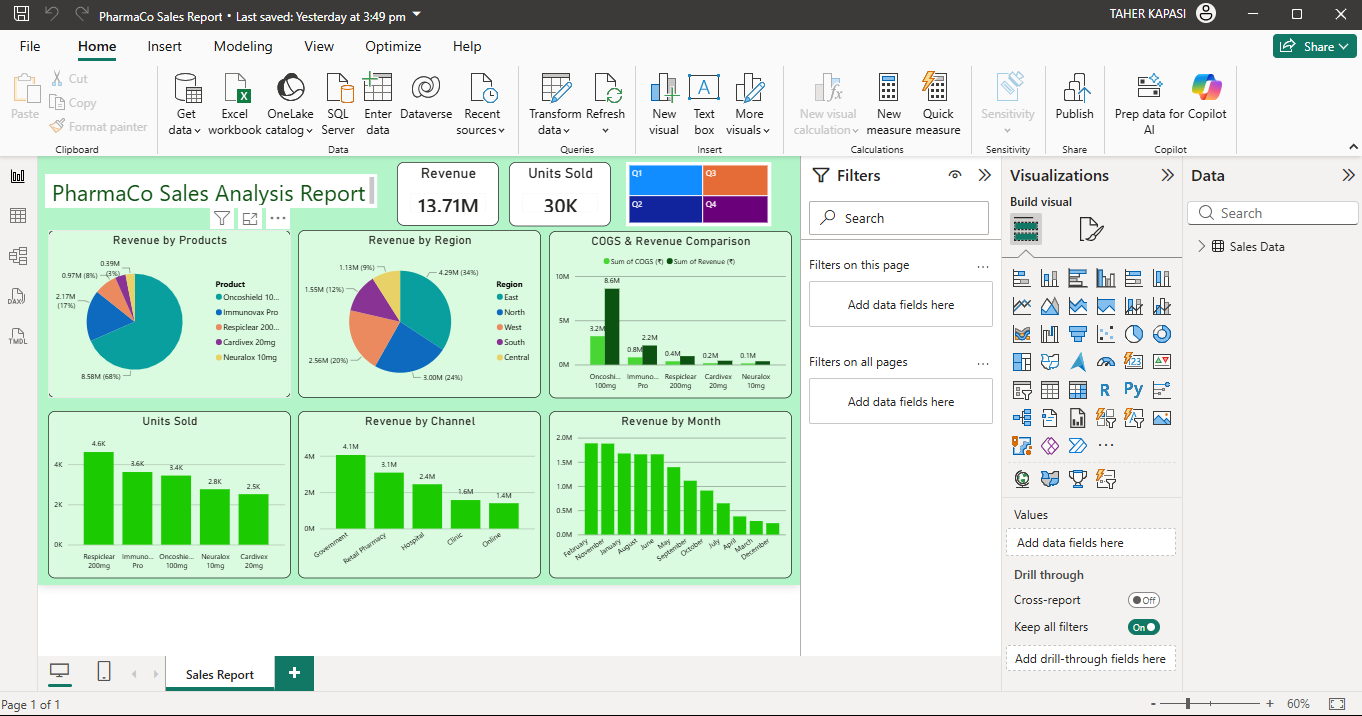

The dashboard page shown, as its layout file describes it:
{"tool":"powerbi","page":{"name":"Sales Report","canvas":[1280,720],"ordinal":0},"visuals":[{"type":"cardVisual","title":"Revenue","fields":{"Data":["Sum(Sales Data.Revenue (₹))"]},"box":[603,10.1,171,107],"z":0},{"type":"clusteredColumnChart","title":"Revenue by Month","fields":{"Category":["Sales Data.Month"],"Y":["Sum(Sales Data.Revenue (₹))"]},"box":[858.4,428.3,408.2,280.5],"z":1000},{"type":"pieChart","title":"Revenue by Products","fields":{"Category":["Sales Data.Product"],"Y":["Sum(Sales Data.Revenue (₹))"]},"box":[16.8,124.3,408.2,282.2],"z":2000},{"type":"treemap","fields":{"Group":["Sales Data.Quarter"],"Values":["Sum(Sales Data.Revenue (₹))"]},"box":[987.7,10.1,243.6,107.5],"z":3000},{"type":"clusteredColumnChart","title":"COGS & Revenue Comparison","fields":{"Y":["Sum(Sales Data.COGS (₹))","Sum(Sales Data.Revenue (₹))"],"Category":["Sales Data.Product"]},"box":[858.4,126,408.2,280.5],"z":4000},{"type":"pieChart","title":"Revenue by Region","fields":{"Category":["Sales Data.Region"],"Y":["Sum(Sales Data.Revenue (₹))"]},"box":[436.7,124.3,408.2,282.2],"z":5000},{"type":"clusteredColumnChart","title":"Revenue by Channel","fields":{"Y":["Sum(Sales Data.Revenue (₹))"],"Category":["Sales Data.Channel"]},"box":[436.7,428.3,408.2,280.5],"z":6000},{"type":"textbox","box":[11.8,30.2,557.7,57.1],"z":7000},{"type":"clusteredColumnChart","title":"Units Sold","fields":{"Y":["Sum(Sales Data.Units Sold)"],"Category":["Sales Data.Product"]},"box":[16.8,428.3,408.2,280.5],"z":8000},{"type":"cardVisual","title":"Units Sold","fields":{"Data":["Sum(Sales Data.Units Sold)"]},"box":[791.2,10.1,171.3,107.5],"z":8001}]}

Visuals, with their boxes on the page's 1280x720 design canvas (x1, y1, x2, y2). These are canvas units, not pixel positions in the 1362x716 screenshot, which may show the page scaled, cropped or inside an application window:
"Revenue" cardVisual: (603,10,774,117)
"Revenue by Month" clusteredColumnChart: (858,428,1267,709)
"Revenue by Products" pieChart: (17,124,425,406)
treemap - Sales Data.Quarter x Sum(Sales Data.Revenue (₹)): (988,10,1231,118)
"COGS & Revenue Comparison" clusteredColumnChart: (858,126,1267,406)
"Revenue by Region" pieChart: (437,124,845,406)
"Revenue by Channel" clusteredColumnChart: (437,428,845,709)
textbox: (12,30,570,87)
"Units Sold" clusteredColumnChart: (17,428,425,709)
"Units Sold" cardVisual: (791,10,962,118)
